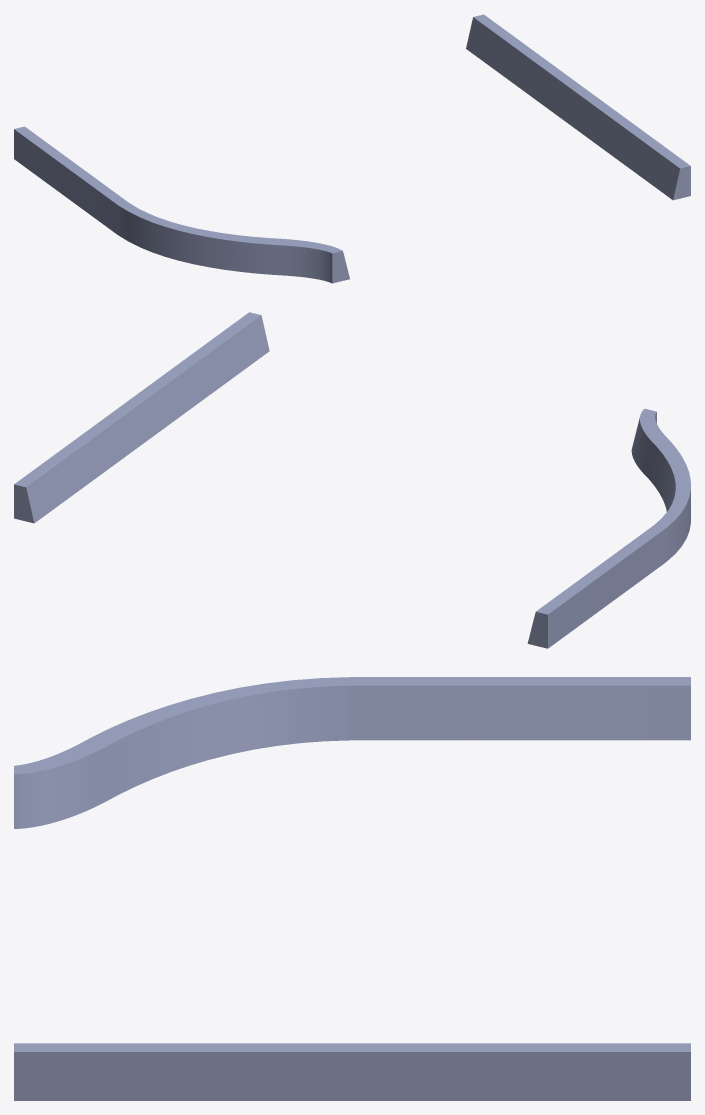
The model's file is road-side-exit-barrier.glb.
3 views of the same model, one above another, from view 1: azimuth 30°, elevation 25°; view 2: azimuth 150°, elevation 25°; view 3: azimuth 270°, elevation 25° (orthographic). The views are drawn at different scales.
Parts seen in each view (by area): view 1: road-side-exit-barrier; view 2: road-side-exit-barrier; view 3: road-side-exit-barrier.
Boxes of the visible parts, left/top/right/bottom form: road-side-exit-barrier: left=14, top=14, right=690, bottom=283; road-side-exit-barrier: left=14, top=312, right=690, bottom=648; road-side-exit-barrier: left=14, top=677, right=690, bottom=1100.
Size of the model in its own units: 1.31 by 0.08 by 1.
Materials: 1 (1 with a texture image).
